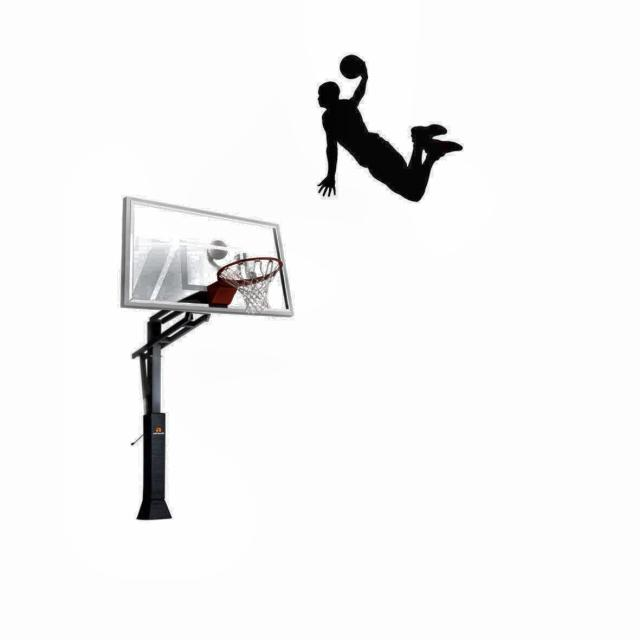rim: (218, 255, 282, 315)
